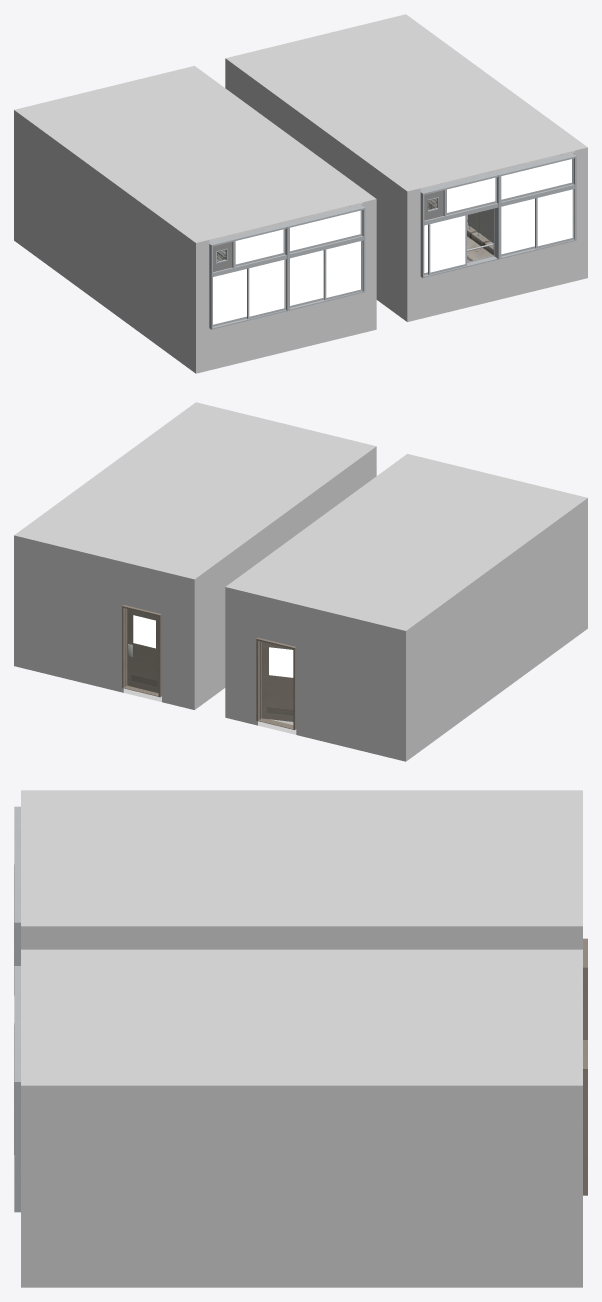
Rendered from JapaneseSchoolRestrooms.gltf.
3 renders of one model, top to bottom at view 1: azimuth 30°, elevation 25°; view 2: azimuth 150°, elevation 25°; view 3: azimuth 270°, elevation 25°, orthographic. The views are drawn at different scales.
Parts seen in each view (by area): view 1: restroom01_shadow_Women, restroom01_shadow_Men, window01, window01_2, window01_win4, window01_win4_1, window01_win2, window01_win2_1, window01_win3, window01_win1_1, window01_win3_1; view 2: restroom01_shadow_Women, restroom01_shadow_Men, door01_2_door, door01_1_door, door01_1_frame, door01_2_frame; view 3: restroom01_shadow_Men, restroom01_shadow_Women, window01, window01_2, door01_2_frame.
Boxes of the visible parts, x1=… form: restroom01_shadow_Women: x1=14, y1=66, x2=376, y2=373; restroom01_shadow_Men: x1=225, y1=14, x2=587, y2=321; window01: x1=420, y1=153, x2=576, y2=277; window01_2: x1=209, y1=204, x2=365, y2=329; window01_win4: x1=535, y1=189, x2=574, y2=248; window01_win4_1: x1=324, y1=240, x2=362, y2=300; window01_win2: x1=428, y1=215, x2=466, y2=274; window01_win2_1: x1=247, y1=259, x2=285, y2=318; window01_win3: x1=501, y1=198, x2=535, y2=256; window01_win1_1: x1=213, y1=269, x2=246, y2=326; window01_win3_1: x1=290, y1=250, x2=323, y2=307; restroom01_shadow_Women: x1=225, y1=454, x2=587, y2=761; restroom01_shadow_Men: x1=14, y1=402, x2=376, y2=709; door01_2_door: x1=127, y1=609, x2=158, y2=692; door01_1_door: x1=262, y1=642, x2=293, y2=721; door01_1_frame: x1=256, y1=637, x2=296, y2=729; door01_2_frame: x1=122, y1=605, x2=161, y2=697; restroom01_shadow_Men: x1=21, y1=949, x2=582, y2=1287; restroom01_shadow_Women: x1=21, y1=790, x2=582, y2=949; window01: x1=14, y1=966, x2=20, y2=1212; window01_2: x1=14, y1=806, x2=20, y2=995; door01_2_frame: x1=583, y1=1040, x2=587, y2=1195.
Bounding box in the file's own units: 10.2 × 3.25 × 8.37.
30 materials, 27 textured.
